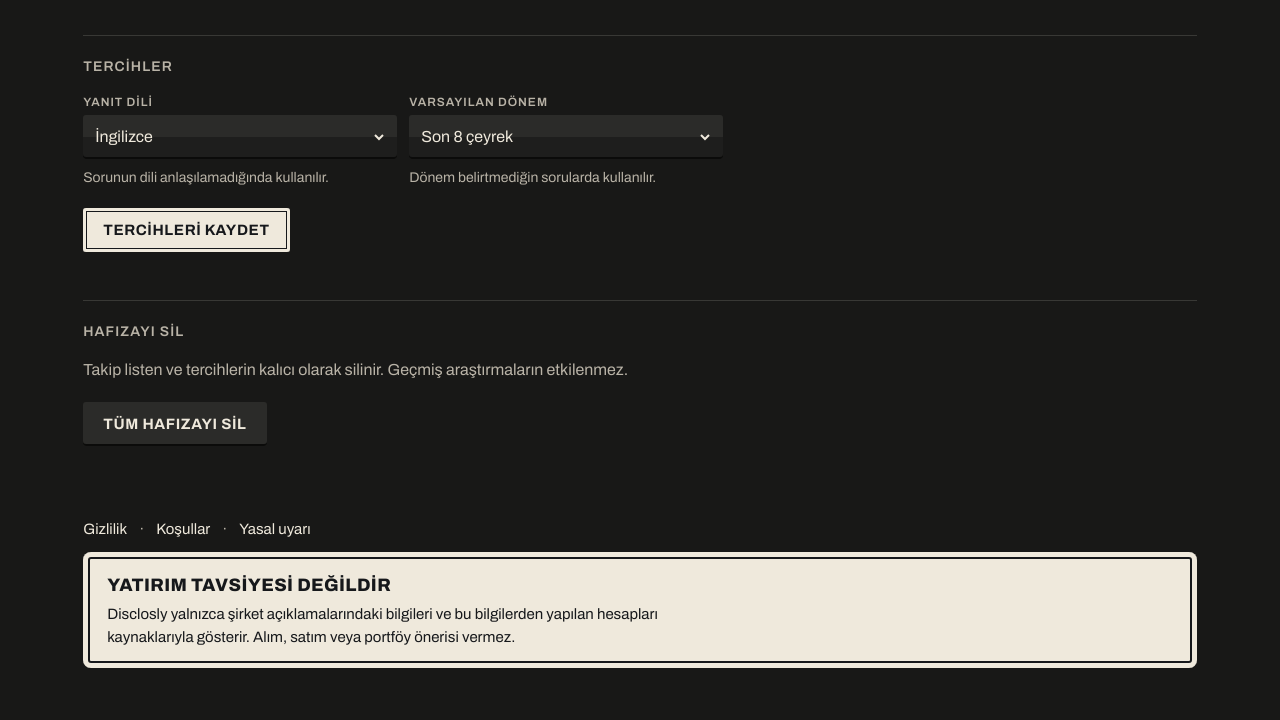
Test: settings page › deletes all memory only after confirmation
(page scrolled)
What coordinates should you click on to do the following:
click the button "Tüm hafızayı sil"
I would click on:
 (175, 424)
Its box is [83, 402, 267, 446].
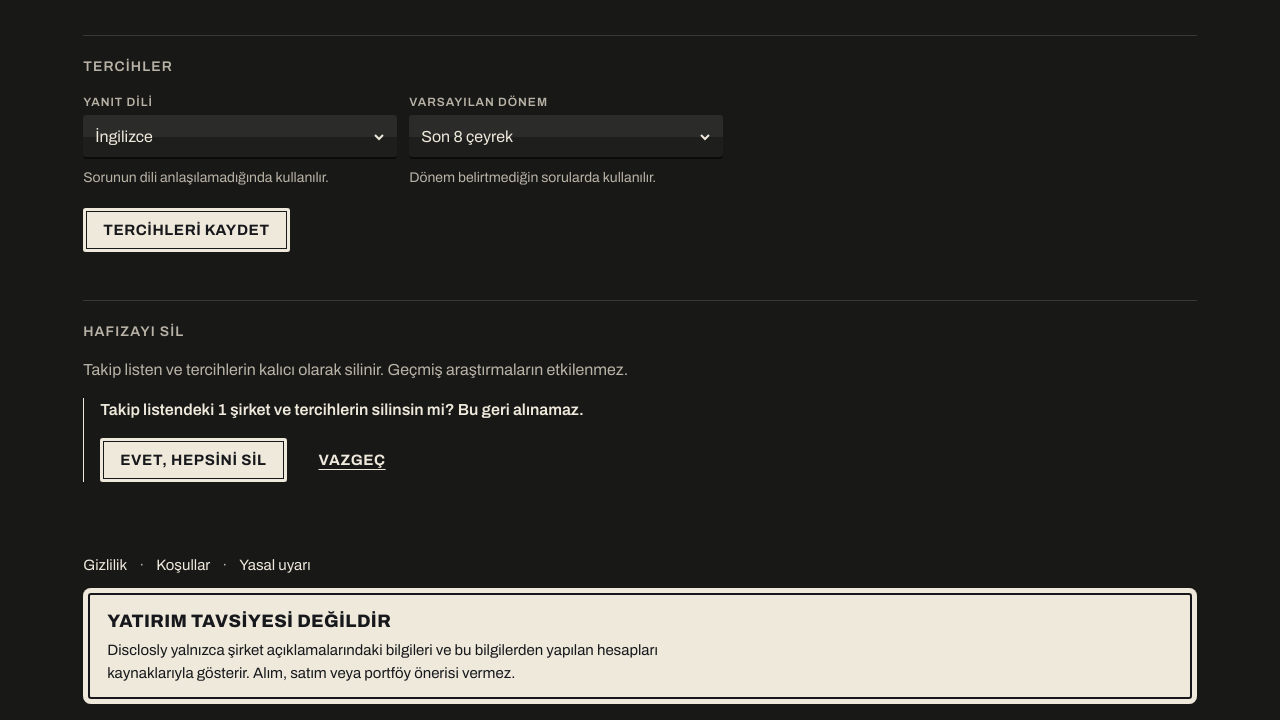
Check: the text "Takip listendeki 1 şirket ve tercihlerin silinsin mi" is shown, box [100, 401, 584, 418]
What coordinates should you click on to do the following:
click the button "Vazgeç"
I would click on:
 (352, 460)
Its box is [298, 438, 406, 482].
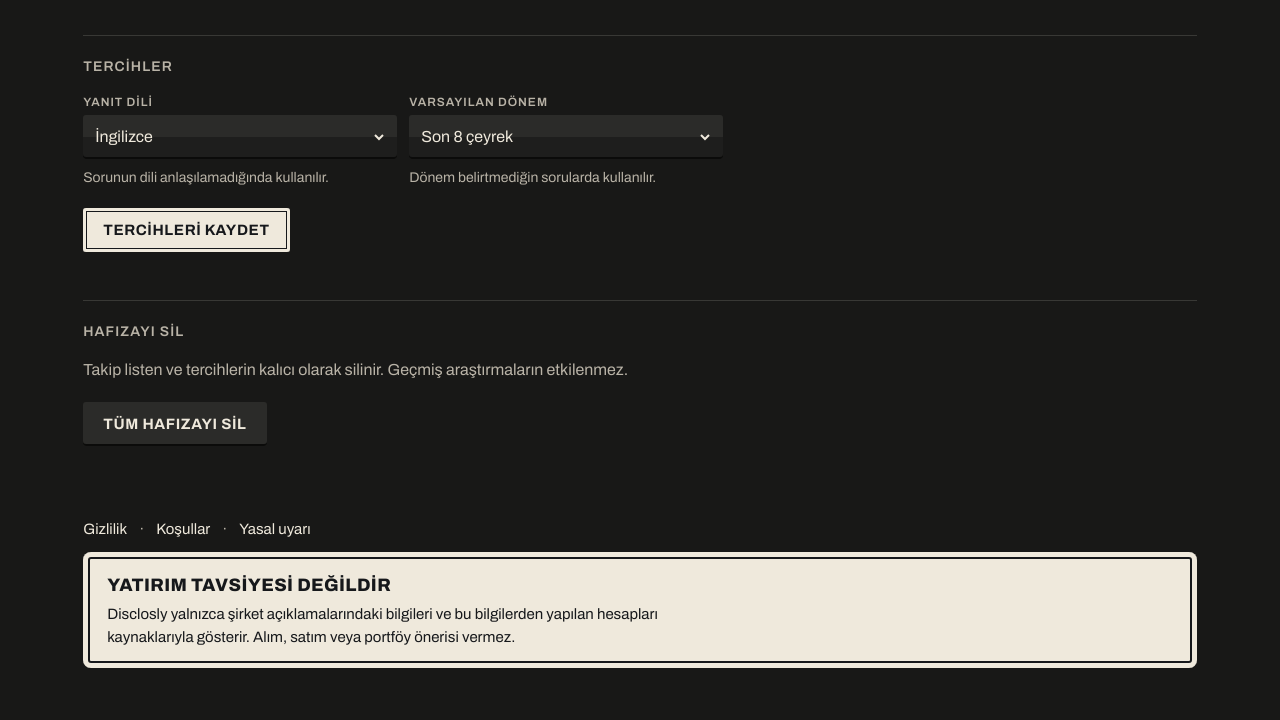
What coordinates should you click on to do the following:
click the button "Tüm hafızayı sil"
I would click on:
 (175, 424)
Its box is [83, 402, 267, 446].
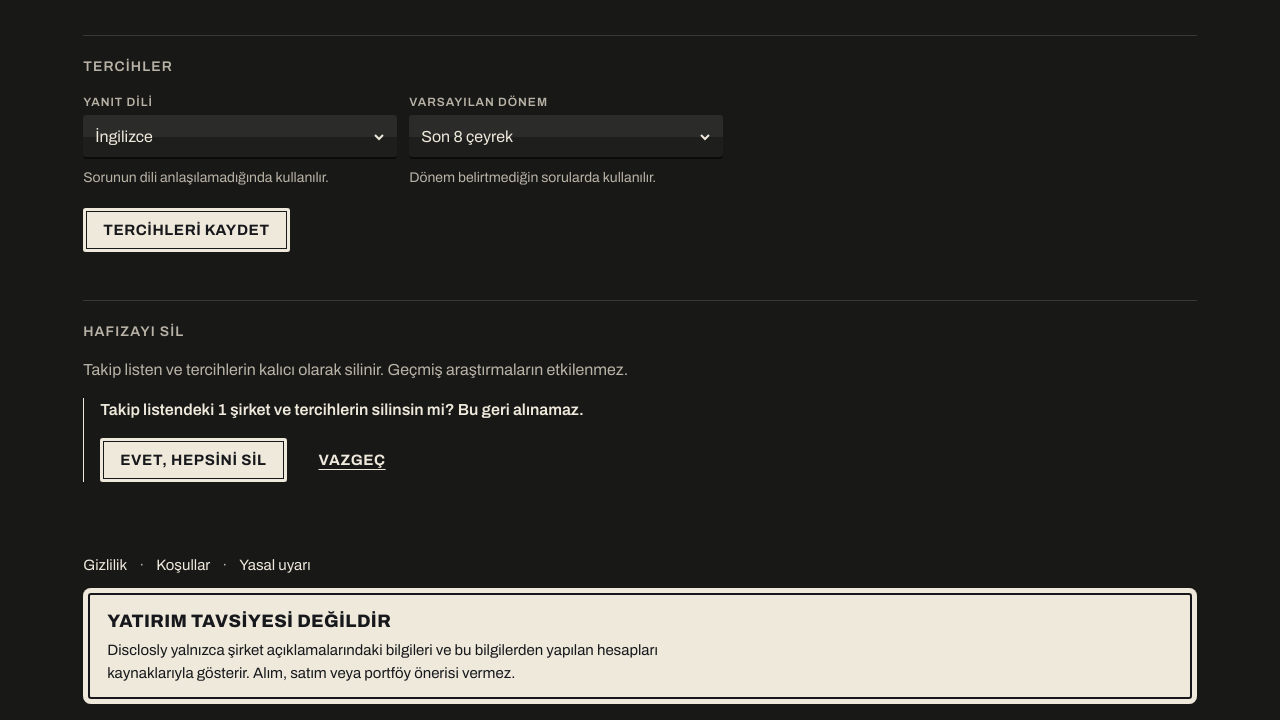
What coordinates should you click on to do the following:
click the button "Evet, hepsini sil"
I would click on:
 (193, 460)
Its box is [100, 438, 286, 482].
(page scrolled)
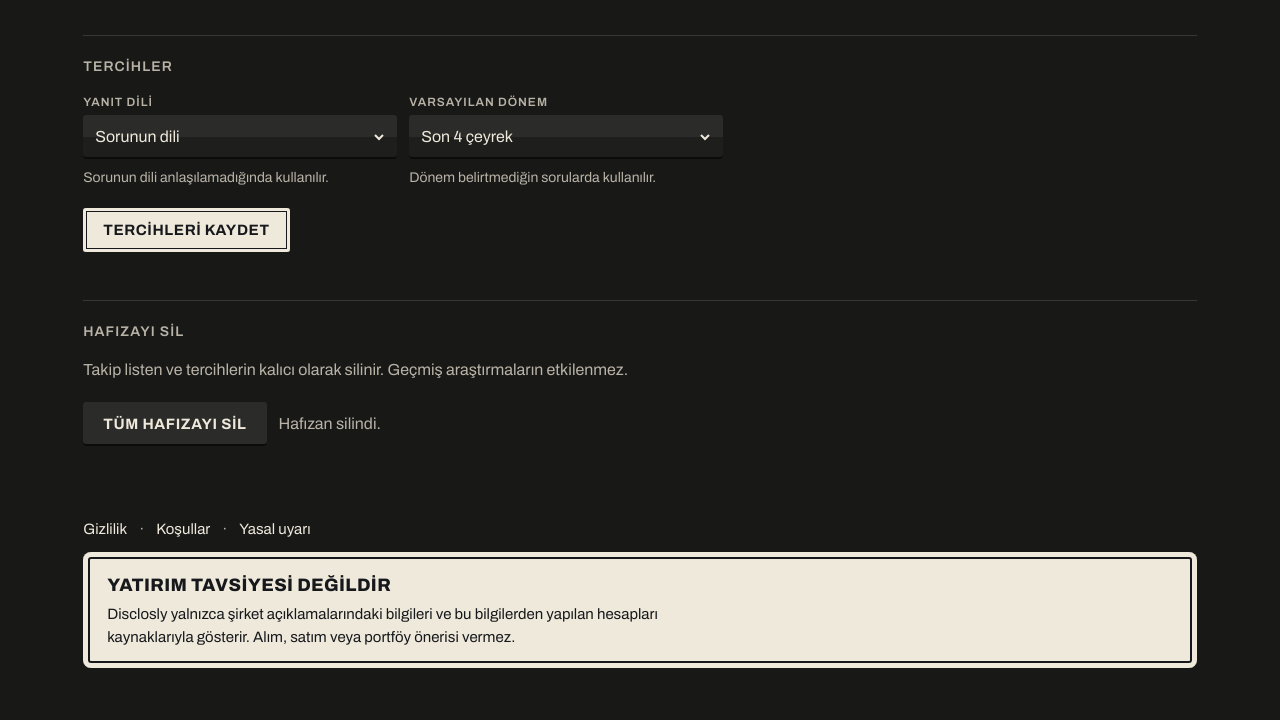
Check: the text "Hafızan silindi." is shown, box [279, 412, 381, 436]
Check: the dropdown labelled "Varsayılan dönem" shows "Son 4 çeyrek", box [409, 115, 723, 159]
